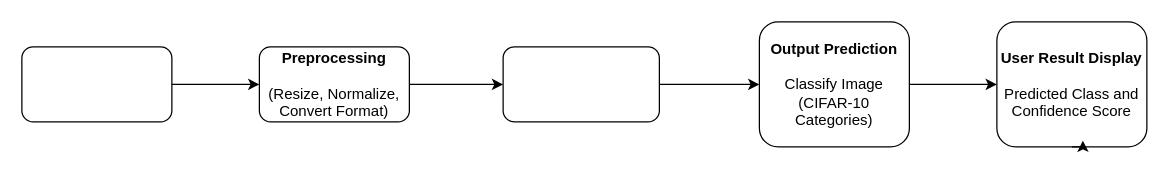
Some shapes in this 1169 by 179 pixel diagram are drawn without their labels. The centre of each missing label's shape, as x and y in pixels:
Model Inference MobileNetV2 Model Processing: point (580, 84)
User Uploads Image: point (96, 84)
